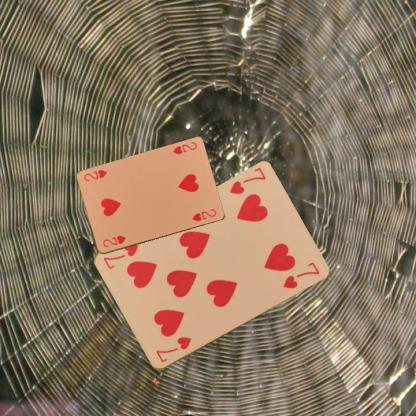2h: (170, 140, 198, 156), (100, 233, 128, 248)
7h: (227, 166, 268, 196), (153, 334, 193, 364)
